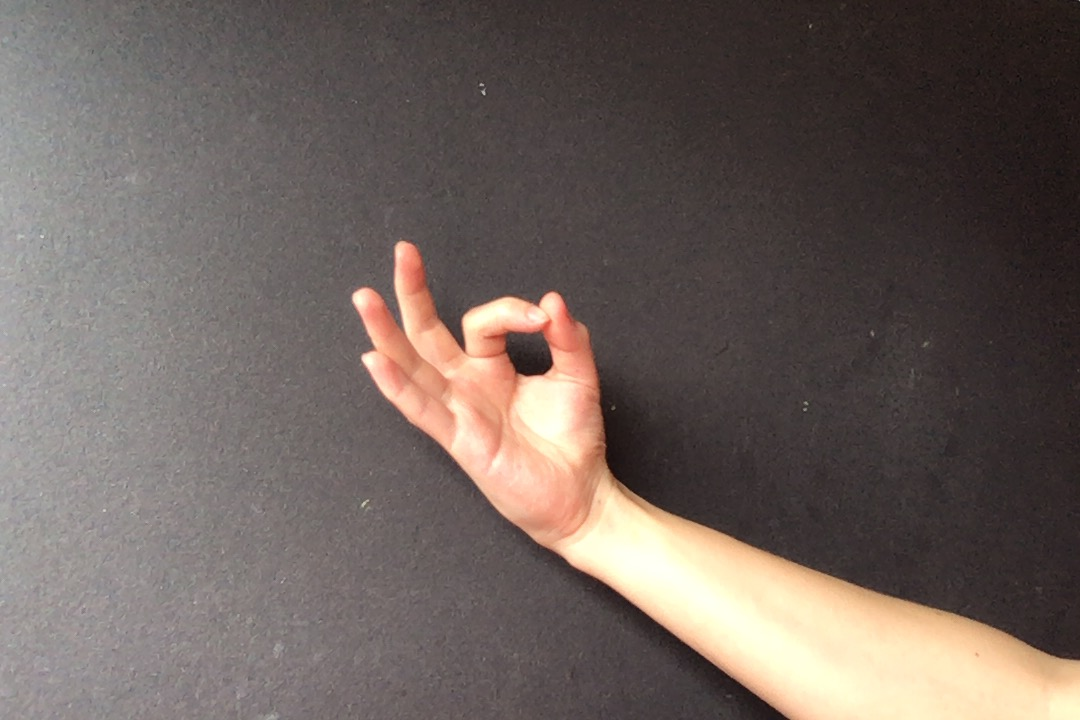oksign: (346, 241, 613, 533)
